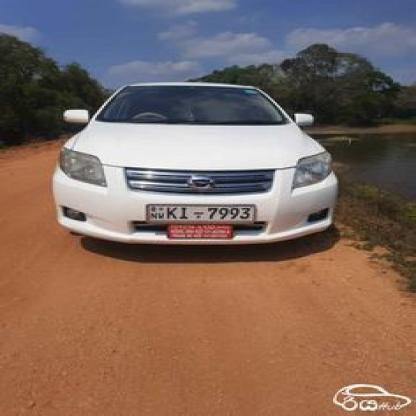car front: (49, 81, 338, 250)
number plate: (143, 201, 252, 224)
